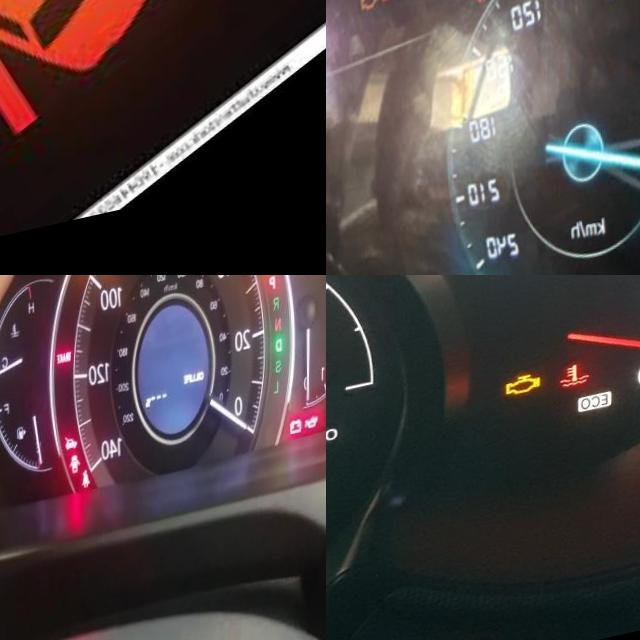Engine cooling system: (558, 375, 589, 403)
Seat Belt: (469, 0, 493, 21)
